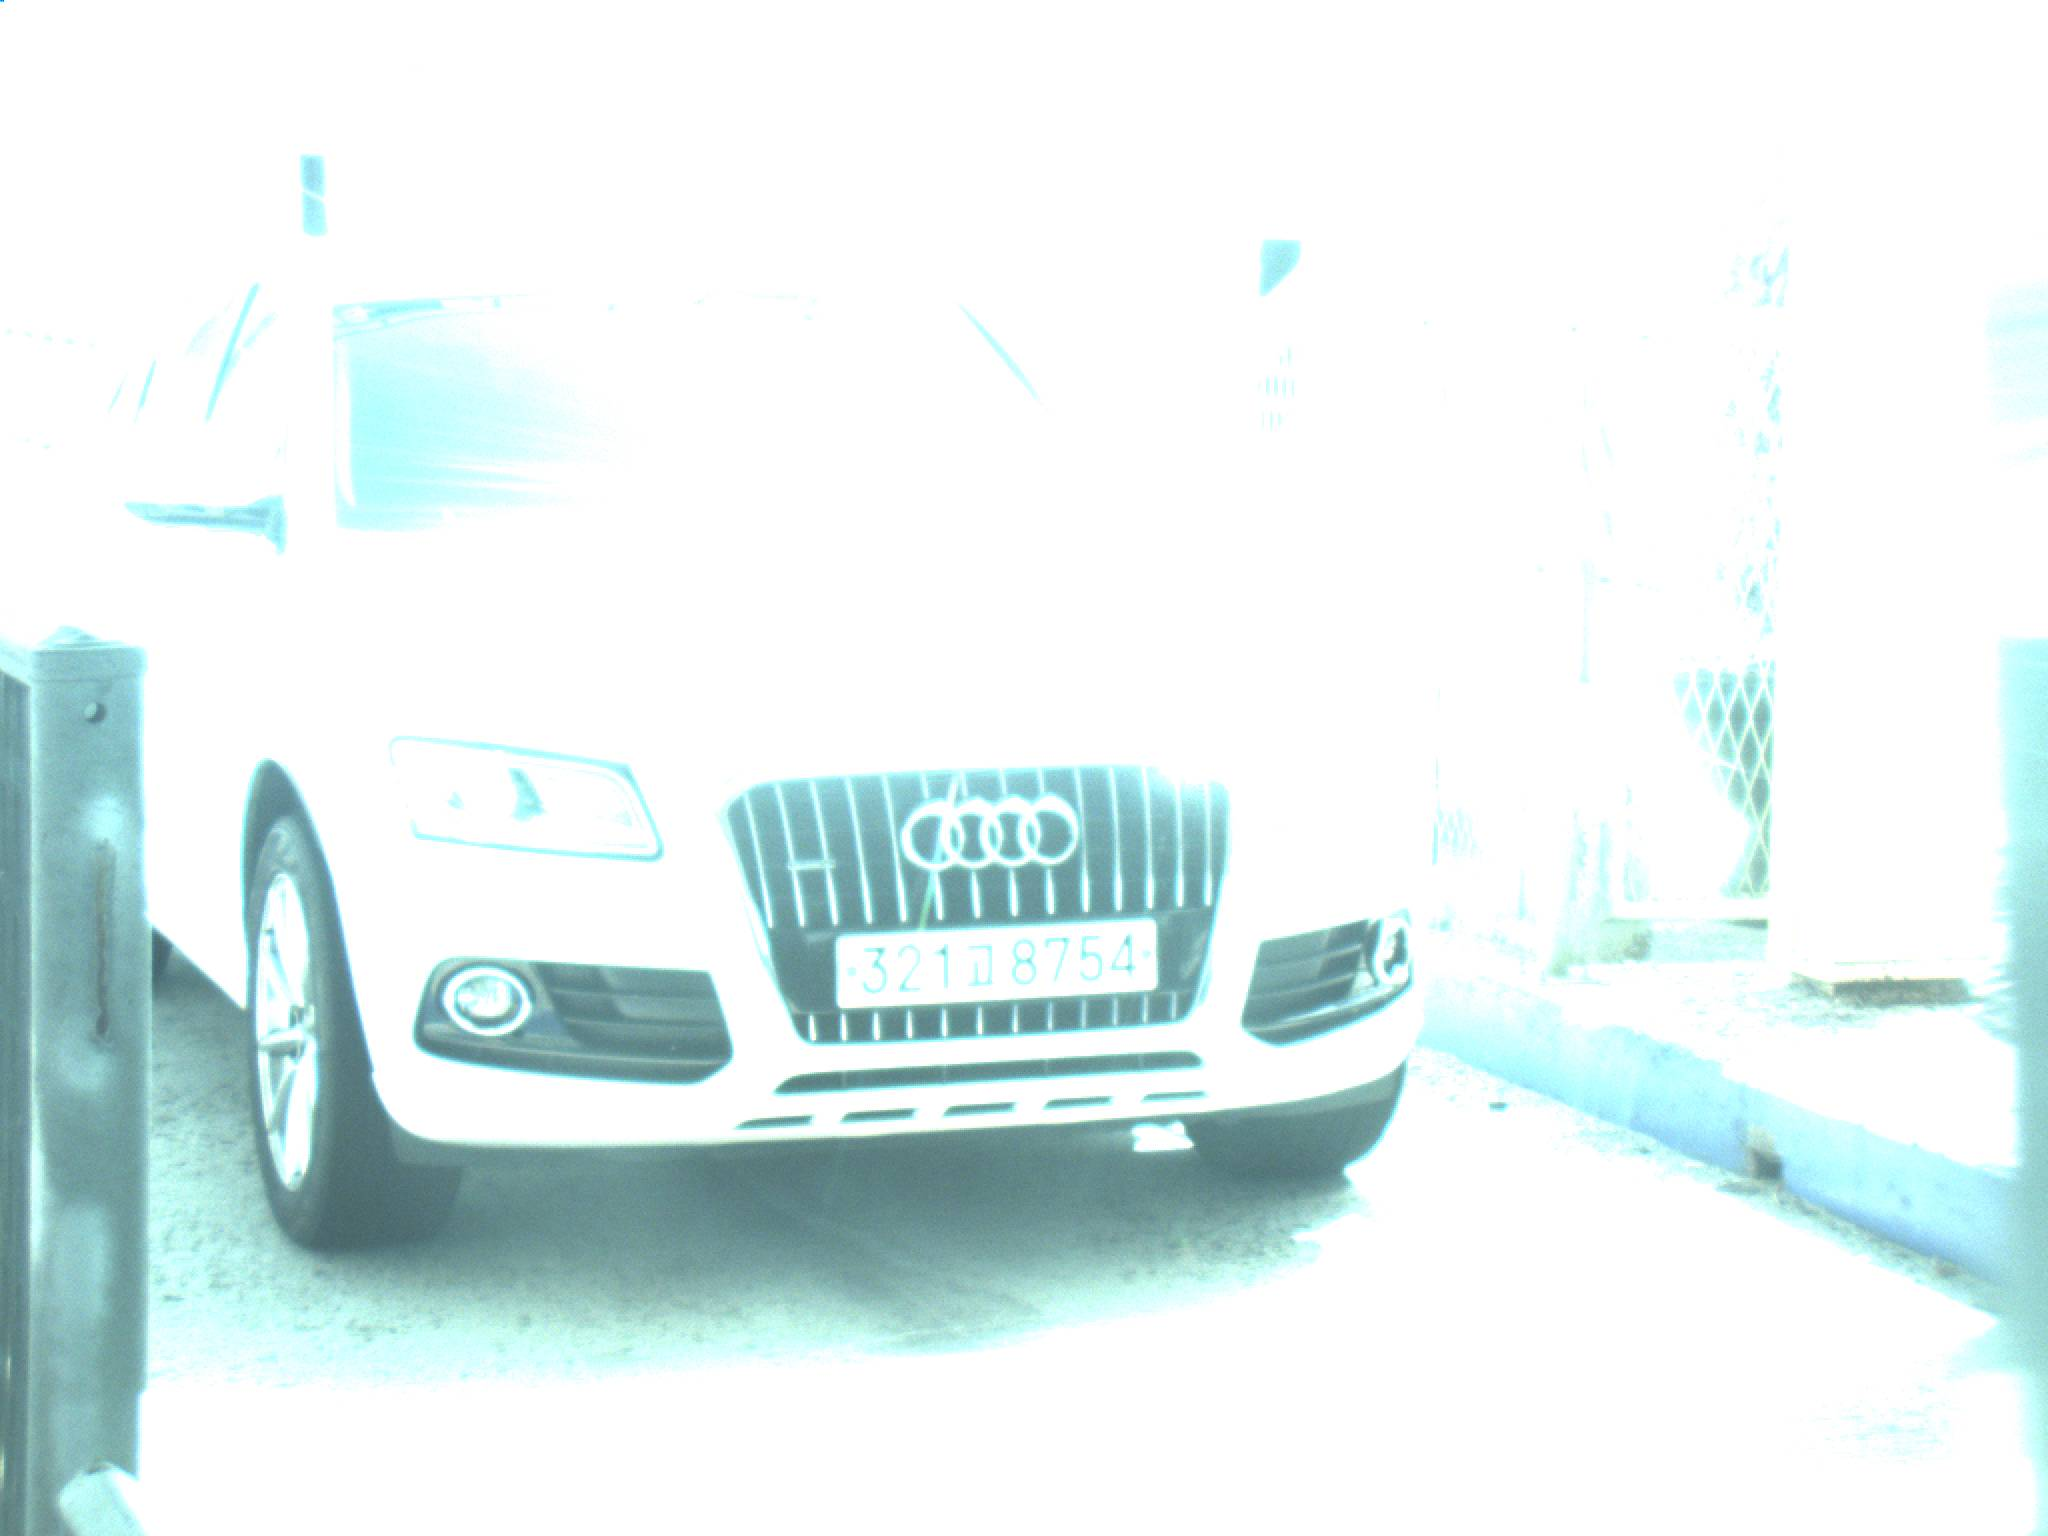car: (1, 215, 1436, 1262)
plate: (827, 909, 1163, 1017)
